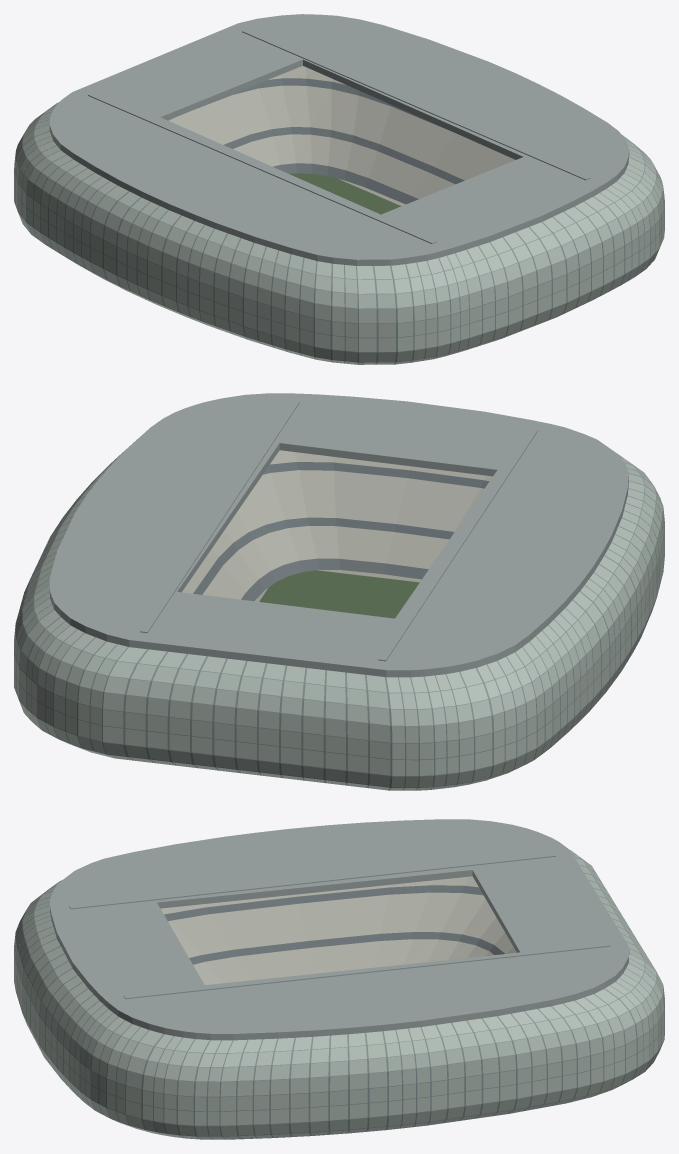
The model's file is stade-pierre-mauroy-far.glb.
3 views of the same model, one above another, from view 1: azimuth 30°, elevation 25°; view 2: azimuth 150°, elevation 25°; view 3: azimuth 270°, elevation 25° (orthographic). The views are drawn at different scales.
Visible parts, largest first — view 1: stade-pierre-mauroy-0-roof, stade-pierre-mauroy-0-shell, stade-pierre-mauroy-0-concrete, stade-pierre-mauroy-0-seam, stade-pierre-mauroy-0-seat, stade-pierre-mauroy-0-pitch; view 2: stade-pierre-mauroy-0-roof, stade-pierre-mauroy-0-shell, stade-pierre-mauroy-0-concrete, stade-pierre-mauroy-0-seam, stade-pierre-mauroy-0-seat, stade-pierre-mauroy-0-pitch; view 3: stade-pierre-mauroy-0-roof, stade-pierre-mauroy-0-shell, stade-pierre-mauroy-0-concrete, stade-pierre-mauroy-0-seam, stade-pierre-mauroy-0-seat.
Boxes of the visible parts, x1=… form: stade-pierre-mauroy-0-roof: x1=49, y1=14, x2=629, y2=265; stade-pierre-mauroy-0-shell: x1=14, y1=102, x2=664, y2=364; stade-pierre-mauroy-0-concrete: x1=168, y1=66, x2=515, y2=206; stade-pierre-mauroy-0-seam: x1=14, y1=103, x2=664, y2=364; stade-pierre-mauroy-0-seat: x1=168, y1=78, x2=515, y2=204; stade-pierre-mauroy-0-pitch: x1=289, y1=173, x2=400, y2=214; stade-pierre-mauroy-0-roof: x1=49, y1=393, x2=628, y2=677; stade-pierre-mauroy-0-shell: x1=14, y1=452, x2=664, y2=790; stade-pierre-mauroy-0-concrete: x1=182, y1=450, x2=580, y2=733; stade-pierre-mauroy-0-seam: x1=14, y1=439, x2=664, y2=790; stade-pierre-mauroy-0-seat: x1=193, y1=462, x2=489, y2=601; stade-pierre-mauroy-0-pitch: x1=259, y1=570, x2=419, y2=618; stade-pierre-mauroy-0-roof: x1=50, y1=819, x2=629, y2=1040; stade-pierre-mauroy-0-shell: x1=14, y1=851, x2=664, y2=1139; stade-pierre-mauroy-0-concrete: x1=161, y1=876, x2=516, y2=984; stade-pierre-mauroy-0-seam: x1=14, y1=850, x2=664, y2=1139; stade-pierre-mauroy-0-seat: x1=164, y1=885, x2=504, y2=964.
Size of the model in its own units: 213 by 41 by 243.
